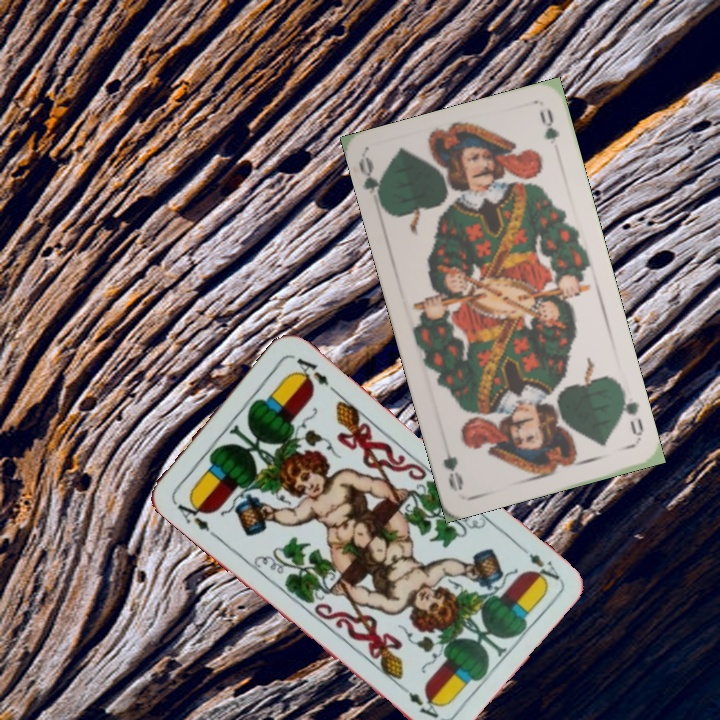EA: (513, 540, 563, 587), (169, 493, 213, 535)
GO: (354, 155, 388, 212), (616, 386, 647, 444)
